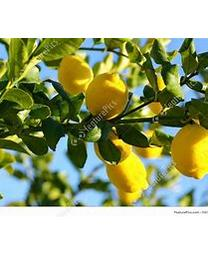lemon: (86, 72, 129, 120), (172, 126, 207, 183), (106, 150, 146, 192), (58, 58, 93, 92)
